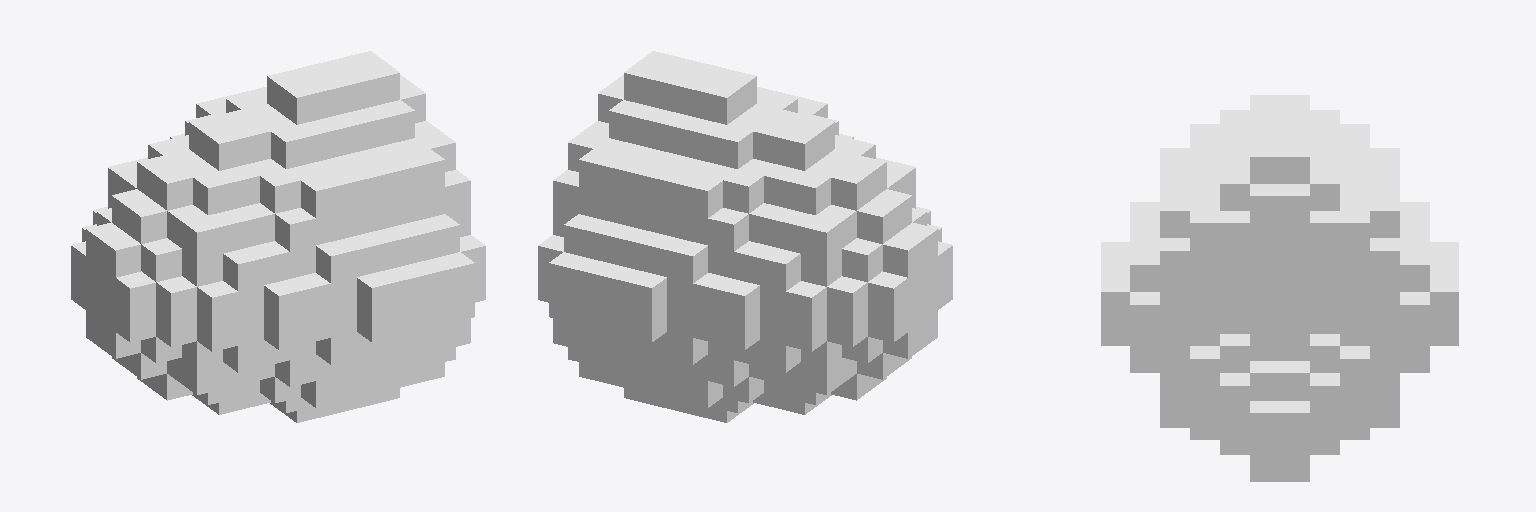
Rendered from Smoke.obj.
3 renders of one model, left to right at view 1: azimuth 30°, elevation 25°; view 2: azimuth 150°, elevation 25°; view 3: azimuth 270°, elevation 25°, orthographic.
Parts seen in each view (by area): view 1: object 1; view 2: object 1; view 3: object 1.
Part boxes in pixels (x1,y1,x2,y2): object 1: (71,51,485,422); object 1: (538,51,952,422); object 1: (1101,95,1458,481).
Bounding box in the file's own units: 1.2 × 1.2 × 1.2.